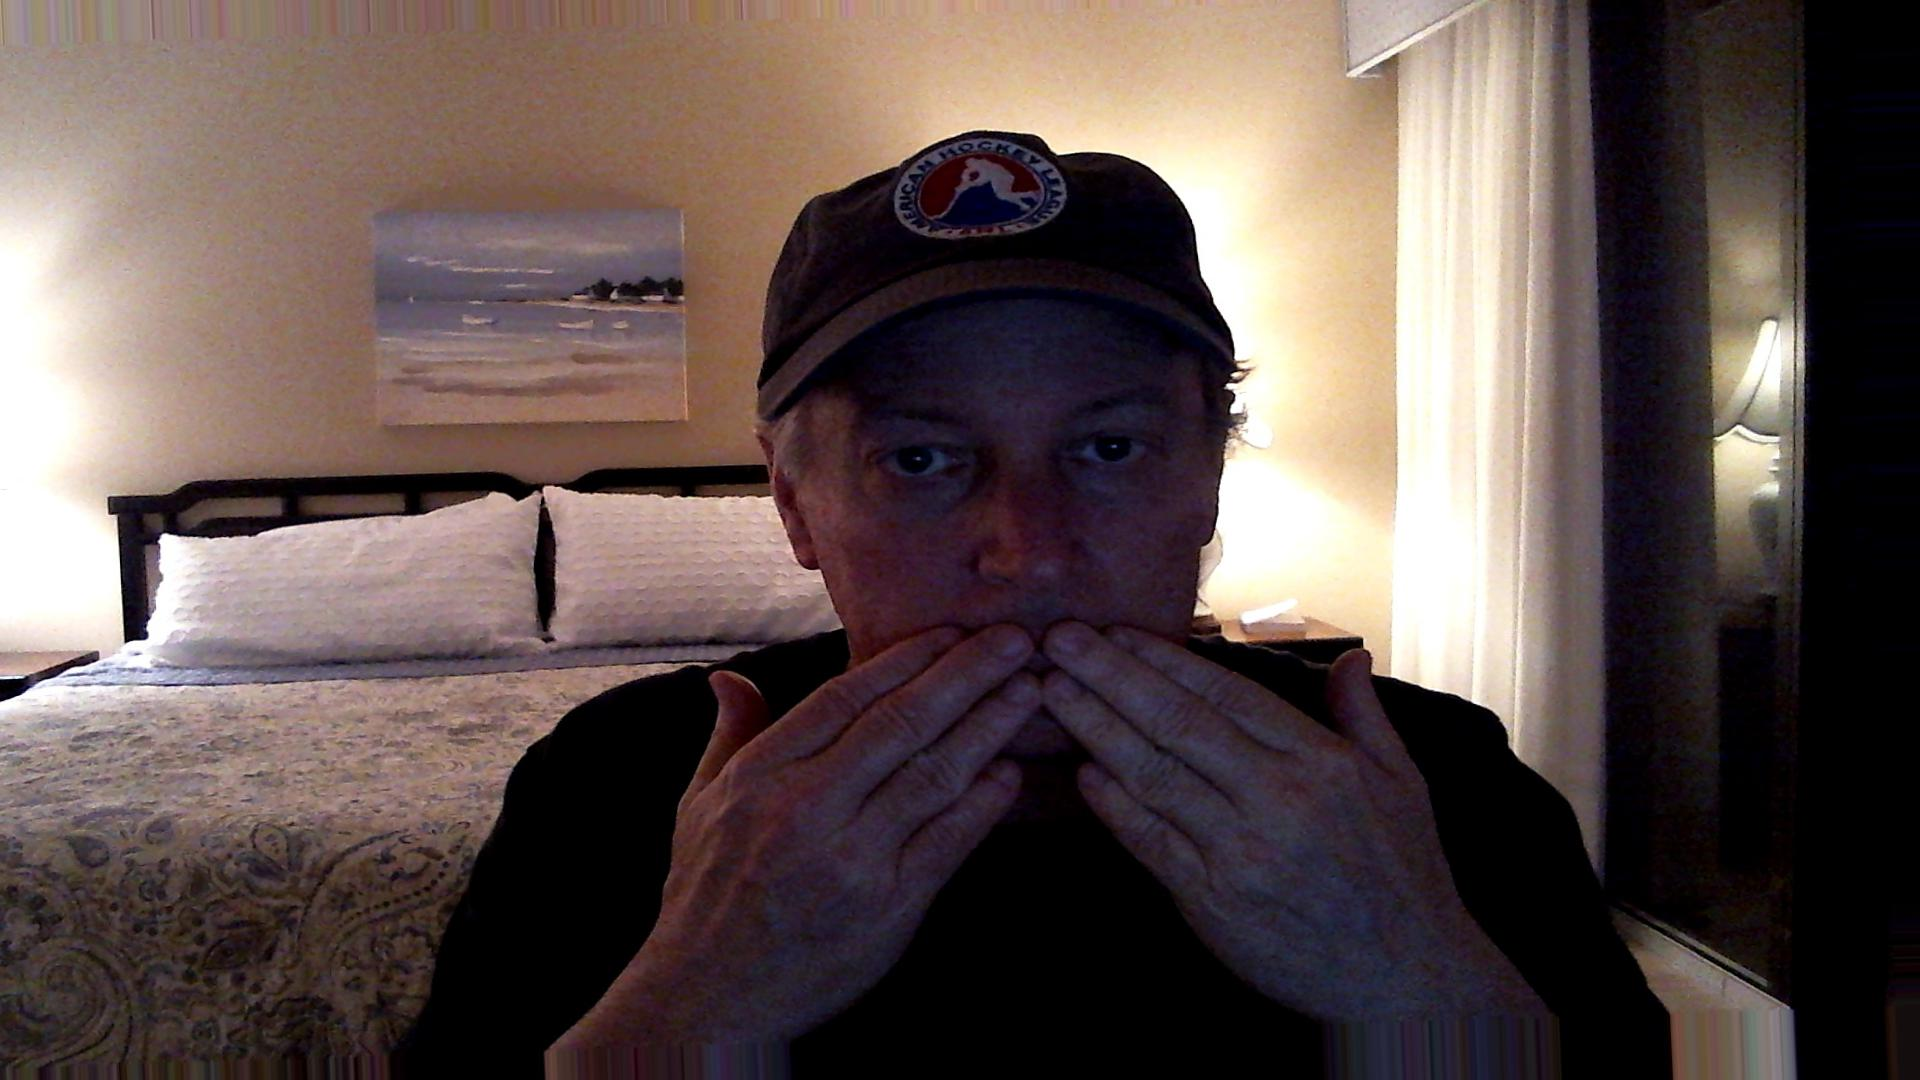Thank You: (645, 607, 1489, 953)
